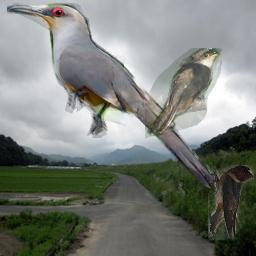Cuckoo: (7, 2, 225, 195), (145, 48, 222, 138)
Swallow: (208, 165, 254, 240)
